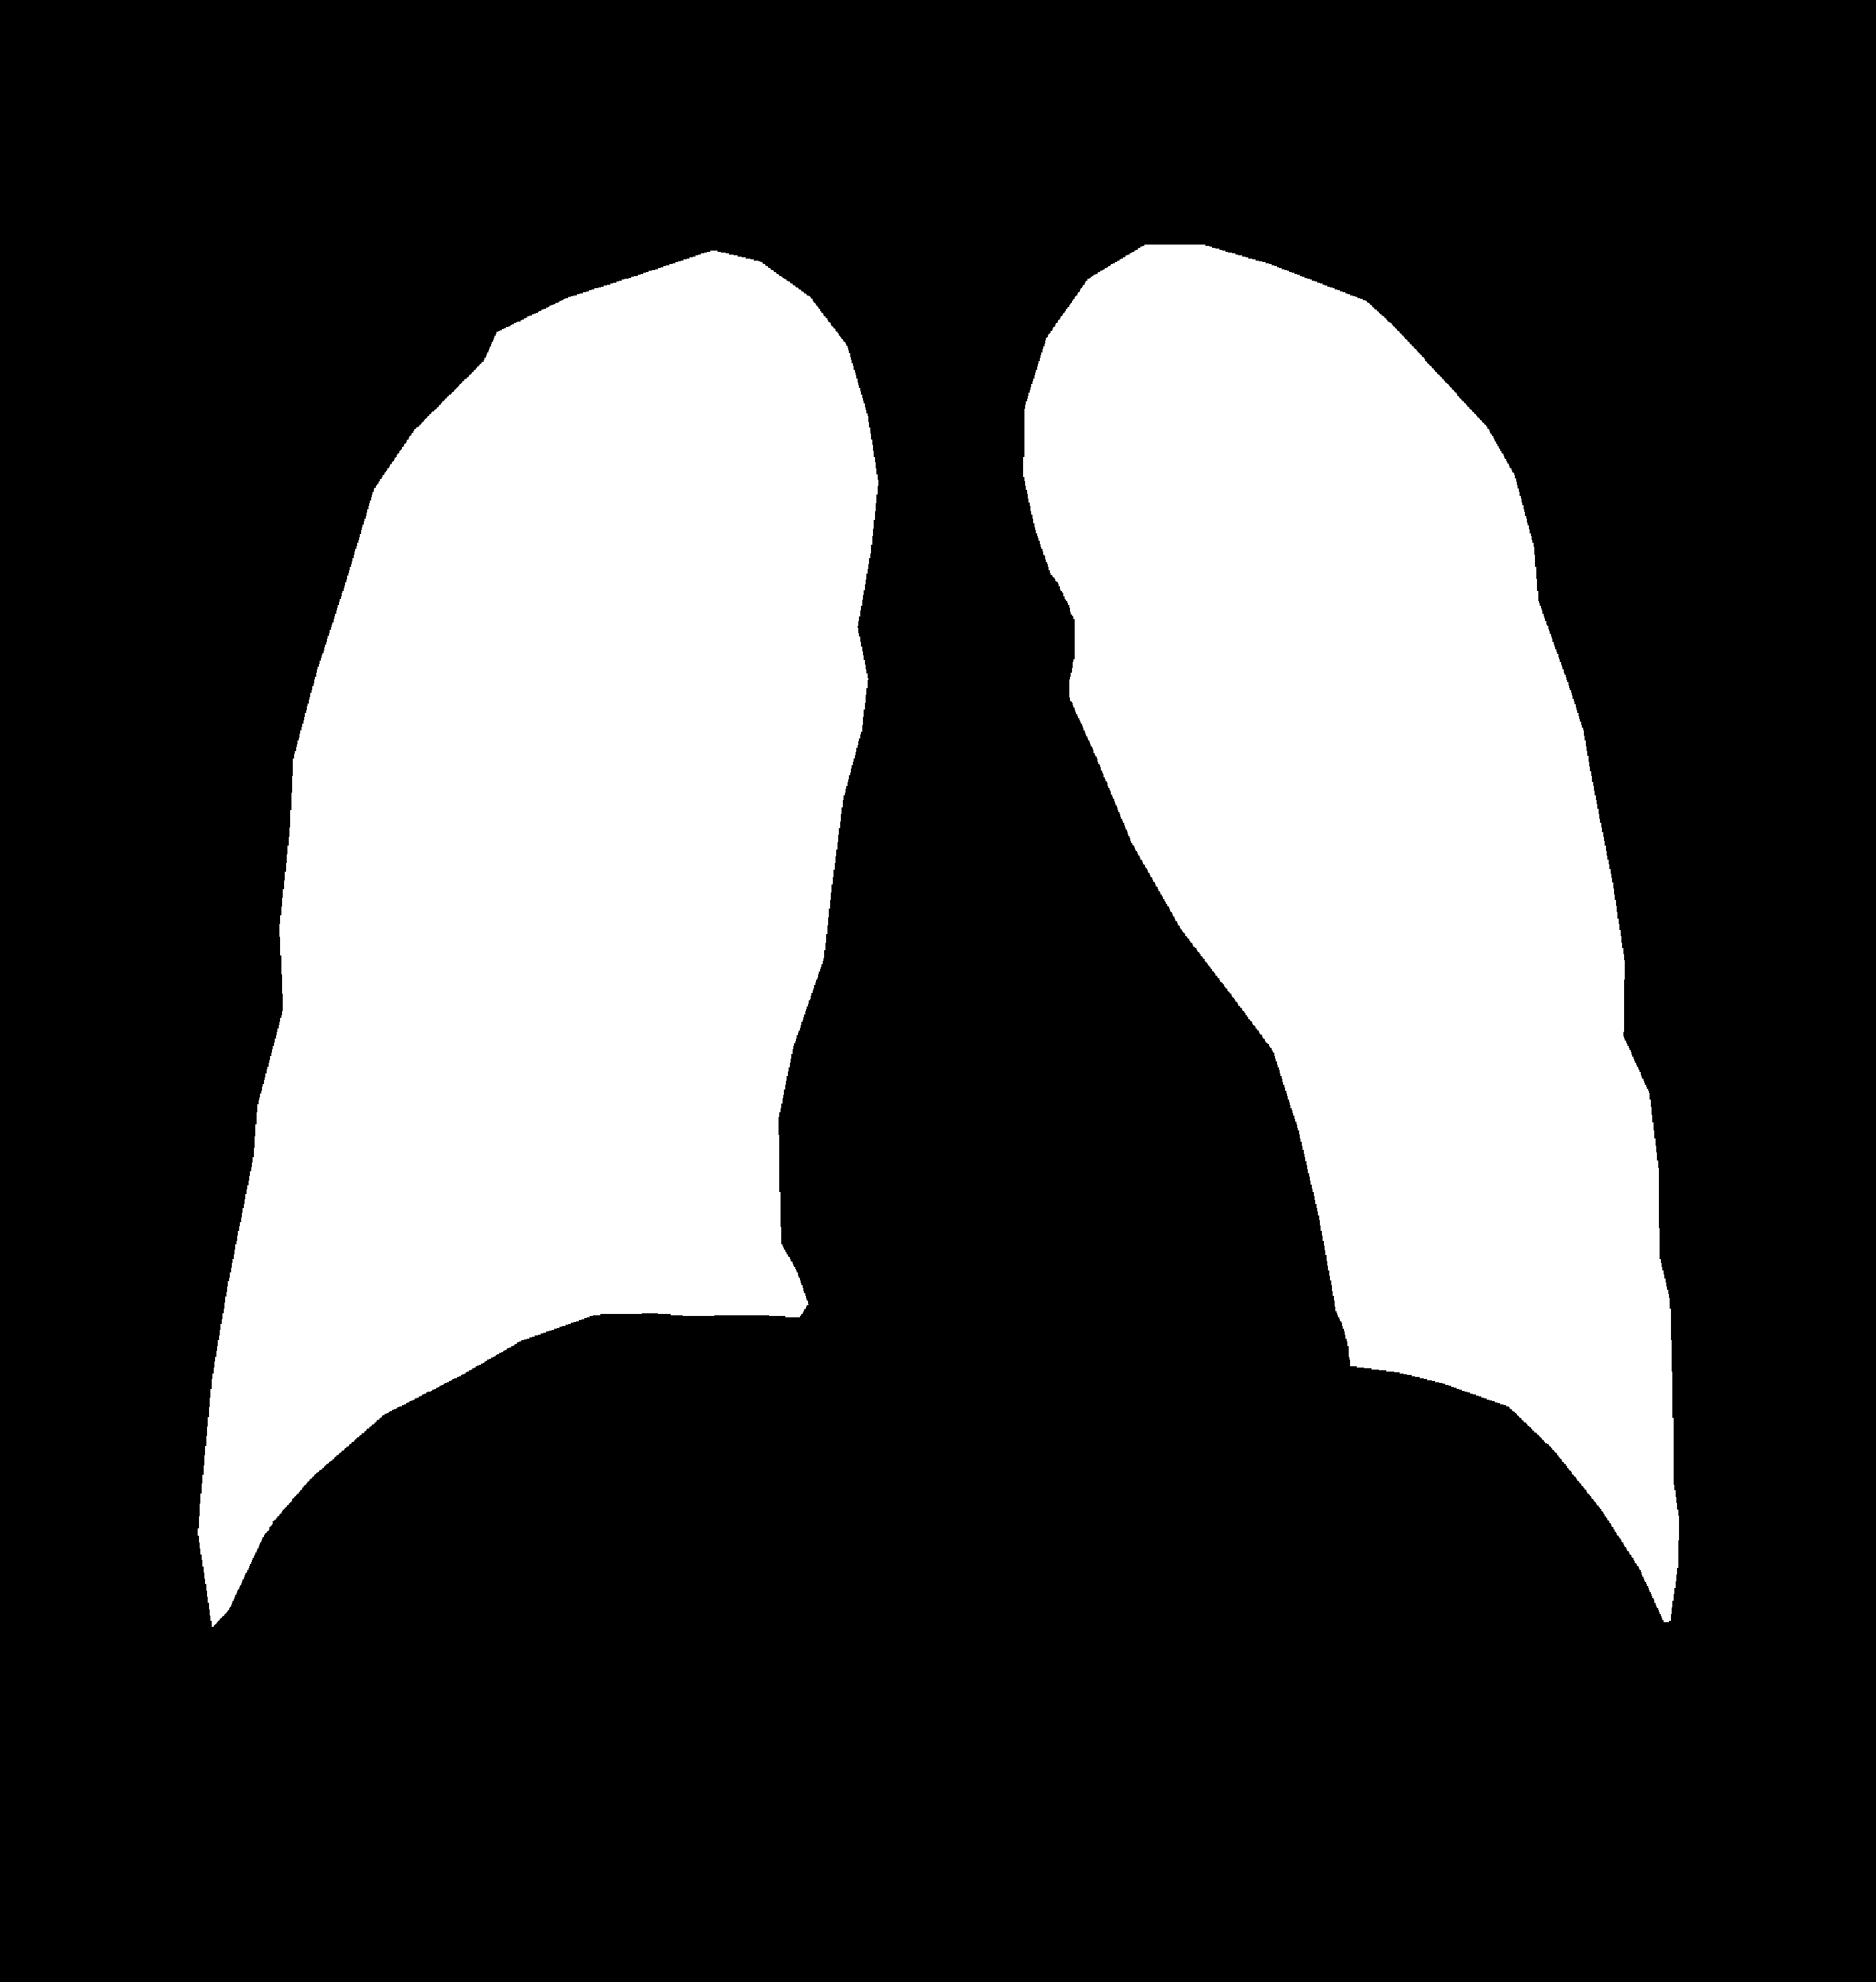heart: (776, 961, 1344, 1481)
left_lung: (197, 250, 878, 1626)
right_lung: (1023, 245, 1679, 1622)
